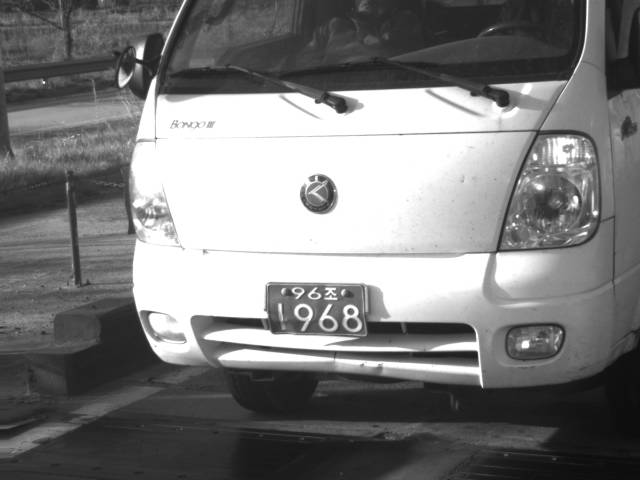car: (116, 1, 640, 409)
plate: (265, 281, 370, 338)
